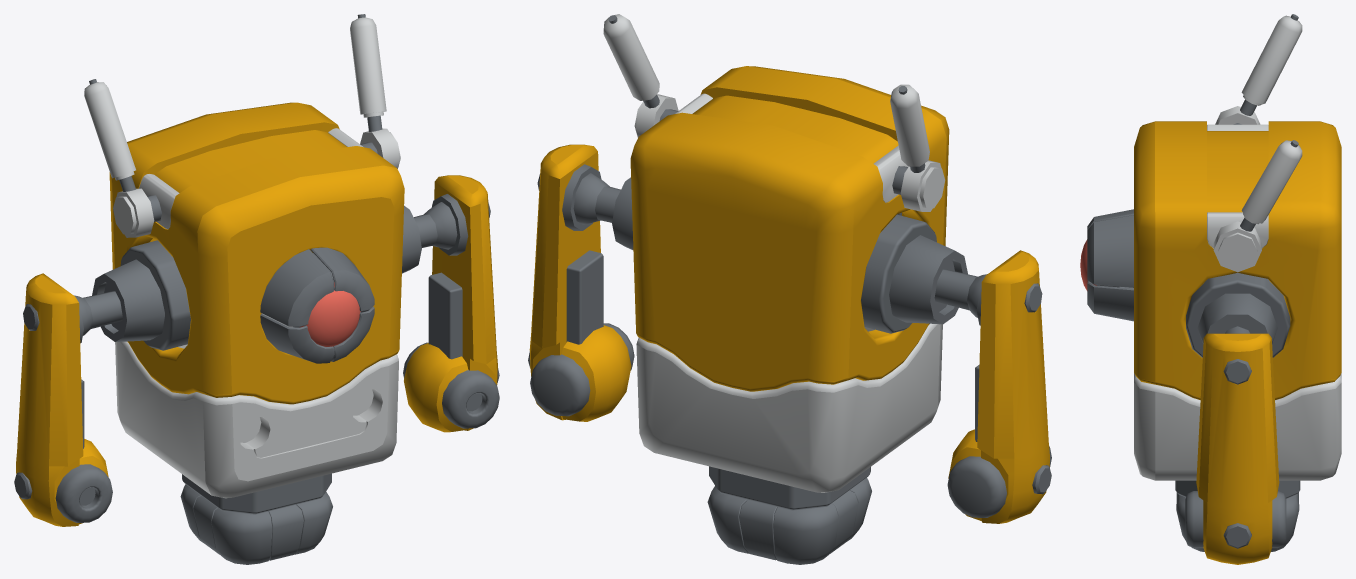
The model's file is moba.fbx.
3 renders of one model, left to right at view 1: azimuth 30°, elevation 25°; view 2: azimuth 150°, elevation 25°; view 3: azimuth 270°, elevation 25°, orthographic. The views are drawn at different scales.
Visible parts, largest first — view 1: Cube.148, Cylinder.020, Cube.144, Cylinder.022, Circle.180, Sphere.001, Cube.166, Cube.165, Cube.147, Icosphere.005, Cube.164; view 2: Cube.148, Cylinder.020, Cube.144, Sphere.001, Cube.166, Cylinder.022, Cube.165, Cube.147, Cube.164; view 3: Cube.148, Cylinder.020, Cube.144, Cylinder.022, Circle.180, Cube.165, Sphere.001, Cube.164, Cube.166, Cube.147, Cylinder.021, Cylinder.017.
Part boxes in pixels (box(x1,y1,x2,y2)): Cube.148: box(109, 102, 404, 404); Cylinder.020: box(16, 175, 499, 526); Cube.144: box(115, 313, 398, 498); Cylinder.022: box(84, 14, 400, 237); Circle.180: box(260, 247, 374, 363); Sphere.001: box(74, 202, 457, 341); Cube.166: box(180, 484, 332, 564); Cube.165: box(120, 240, 333, 350); Cube.147: box(182, 473, 331, 514); Icosphere.005: box(299, 282, 360, 346); Cube.164: box(139, 128, 363, 229); Cube.148: box(630, 66, 949, 391); Cylinder.020: box(529, 144, 1051, 523); Cube.144: box(636, 323, 942, 492); Sphere.001: box(573, 173, 987, 324); Cube.166: box(707, 478, 871, 564); Cylinder.022: box(603, 14, 945, 211); Cube.165: box(861, 214, 936, 333); Cube.147: box(709, 466, 870, 510); Cube.164: box(675, 93, 908, 202); Cube.148: box(1134, 121, 1341, 399); Cylinder.020: box(1185, 333, 1286, 564); Cube.144: box(1134, 373, 1341, 480); Cylinder.022: box(1213, 14, 1302, 272); Circle.180: box(1087, 209, 1133, 321); Cube.165: box(1186, 272, 1290, 357); Sphere.001: box(1197, 293, 1277, 343); Cube.164: box(1207, 124, 1268, 248); Cube.166: box(1176, 492, 1299, 551); Cube.147: box(1175, 480, 1300, 498); Cylinder.021: box(1223, 523, 1251, 548); Cylinder.017: box(1223, 359, 1251, 384).
Size of the model in its own units: 505 by 488 by 251.
